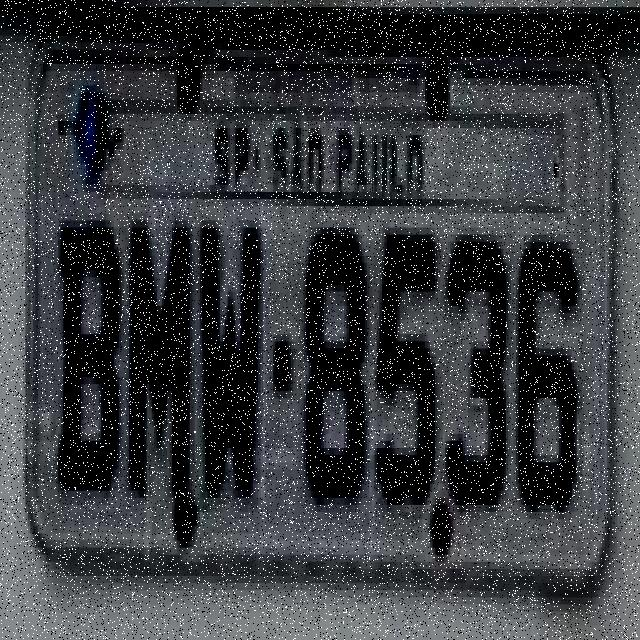licenseplate: (12, 11, 622, 616)
